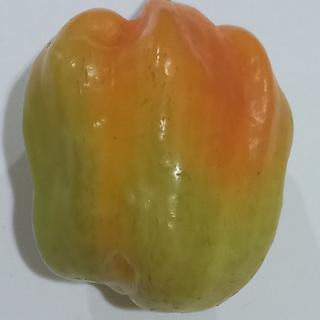Grade-A: (18, 0, 299, 314)
